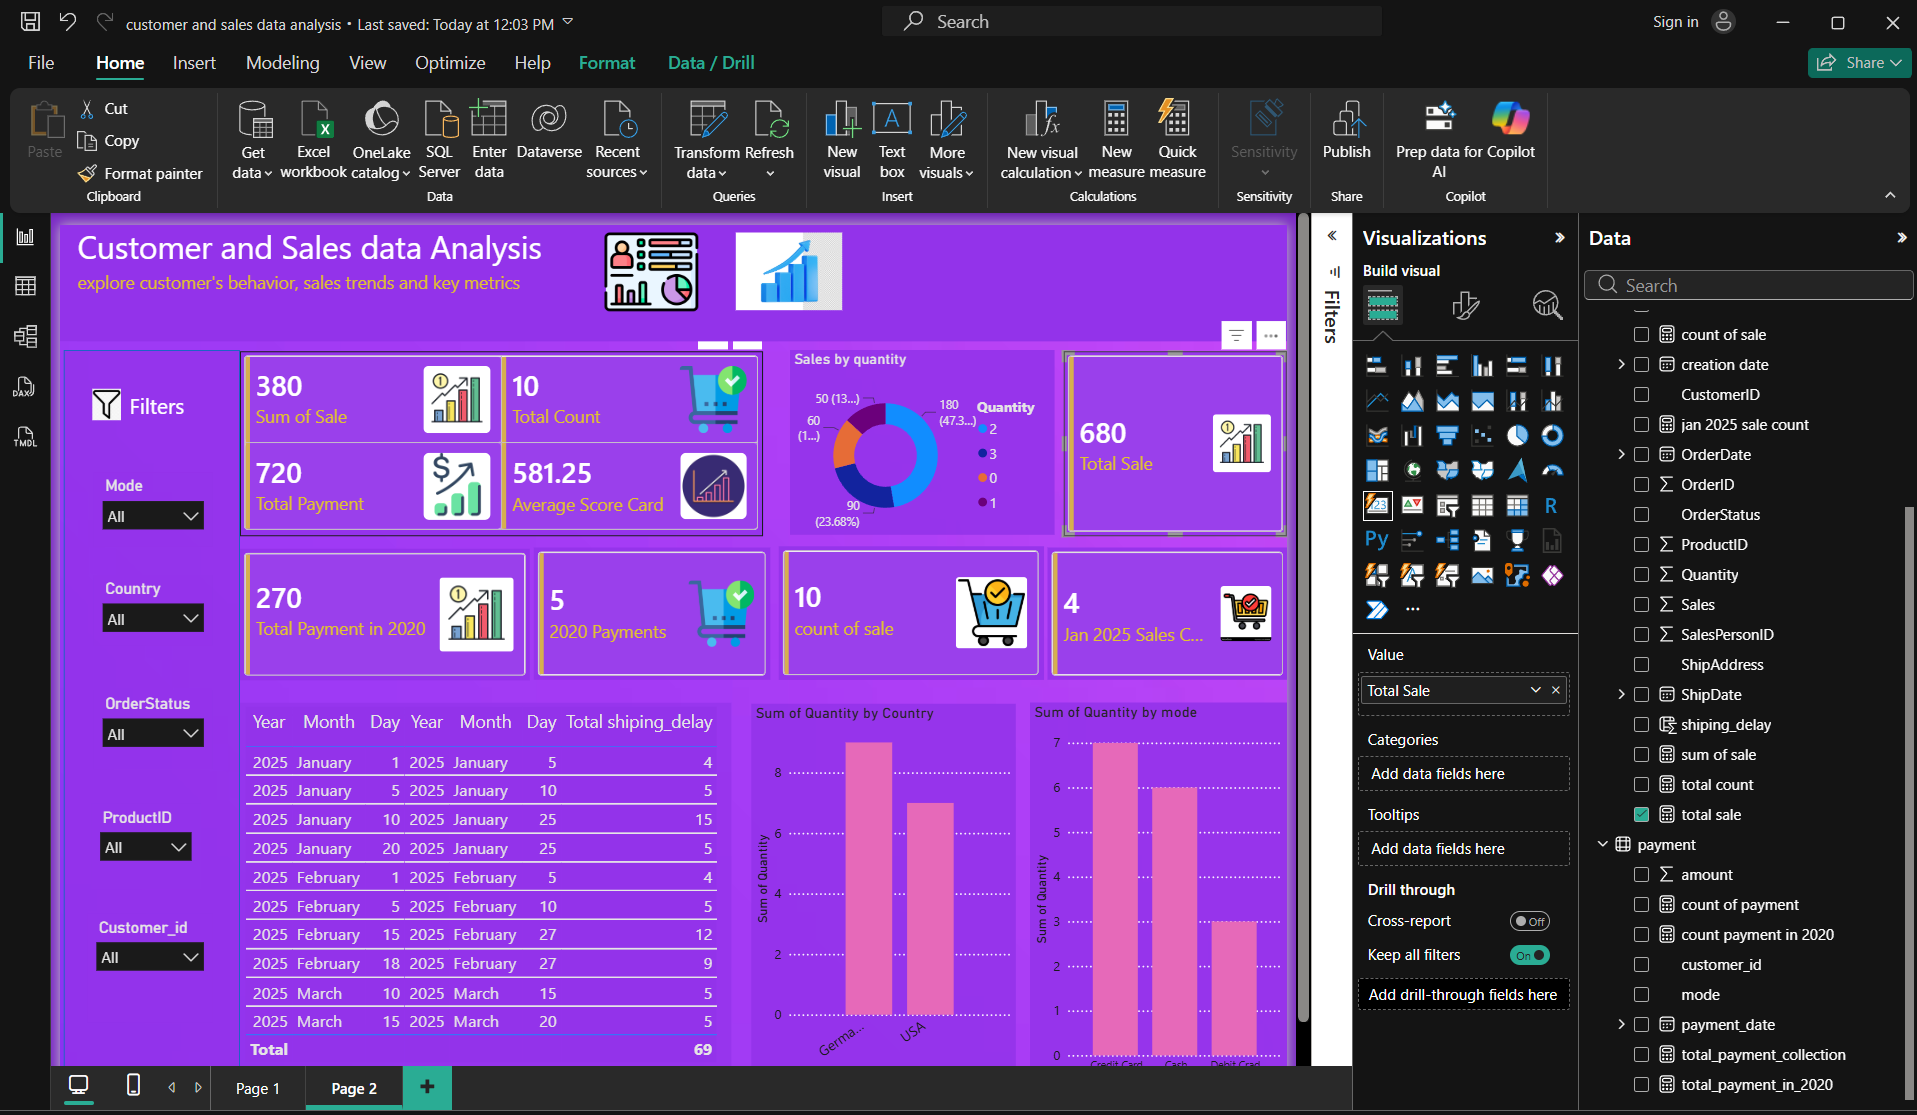

The dashboard page shown, as its layout file describes it:
{"tool":"powerbi","page":{"name":"Page 2","canvas":[1403,1015],"ordinal":1},"visuals":[{"type":"cardVisual","fields":{"Data":["Orders.Measure","Orders.distinct count","payment.total_payment_collection","Customers.Average_customer_scoreCard"]},"box":[205.7,144.3,598.6,211],"z":0},{"type":"tableEx","fields":{"Values":["Orders.OrderDate.Variation.Date Hierarchy.Year","Orders.OrderDate.Variation.Date Hierarchy.Month","Orders.OrderDate.Variation.Date Hierarchy.Day","Orders.ShipDate.Variation.Date Hierarchy.Year","Orders.ShipDate.Variation.Date Hierarchy.Month","Orders.ShipDate.Variation.Date Hierarchy.Day","Sum(Orders.shiping_delay)"]},"box":[205.7,545.7,561.4,447.1],"z":1000},{"type":"donutChart","title":"Sales by quantity ","fields":{"Category":["Orders.Quantity"],"Y":["Sum(Orders.Sales)"]},"box":[834.2,142.5,302.7,211],"z":2000},{"type":"shape","title":"Customer and Sales data Analysis","box":[0,0,1402.7,132.9],"z":3000},{"type":"lineClusteredColumnComboChart","fields":{"Category":["Customers.Country"],"Y":["Sum(Orders.Quantity)"]},"box":[790,547.1,302.7,445.2],"z":4000},{"type":"image","box":[594.5,0,163,106.8],"z":5000},{"type":"shape","box":[4.3,142.9,201.4,867.1],"z":6000},{"type":"slicer","fields":{"Values":["Customers.Country"]},"box":[38.6,400,135.6,80.8],"z":7000},{"type":"slicer","fields":{"Values":["Orders.OrderStatus"]},"box":[38.6,531.4,135.6,90.4],"z":8000},{"type":"slicer","fields":{"Values":["payment.mode"]},"box":[38.6,282.9,135.6,84.9],"z":9000},{"type":"slicer","fields":{"Values":["Orders.ProductID"]},"box":[35.7,661.4,124.7,97.3],"z":10000},{"type":"image","box":[26,187.7,54.8,35.6],"z":11000},{"type":"image","box":[757.5,8.2,152.1,89],"z":12000},{"type":"cardVisual","fields":{"Data":["Orders.total sale"]},"box":[1147.1,144.3,255.7,211.4],"z":13000},{"type":"columnChart","fields":{"Y":["Sum(Orders.Quantity)"],"Category":["payment.mode"]},"box":[1108.6,545.7,294.3,447.1],"z":14000},{"type":"cardVisual","fields":{"Data":["payment.total_payment_in_2020"]},"box":[205.7,370,331.4,150],"z":15000},{"type":"cardVisual","fields":{"Data":["Orders.count of sale"]},"box":[821.4,367.1,302.9,152.9],"z":16000},{"type":"cardVisual","fields":{"Data":["payment.count payment in 2020"]},"box":[541.4,368.6,270,151.4],"z":17000},{"type":"slicer","fields":{"Values":["payment.customer_id"]},"box":[31.4,787.1,142.9,124.3],"z":18000},{"type":"cardVisual","fields":{"Data":["Orders.jan 2025 sale count"]},"box":[1128.6,368.6,274.3,151.4],"z":19000}]}

Visuals, with their boxes on the page's 1403x1015 design canvas (x1, y1, x2, y2). These are canvas units, not pixel positions in the 1917x1115 screenshot, which may show the page scaled, cropped or inside an application window:
cardVisual - Orders.Measure x Orders.distinct count: select_region(206, 144, 804, 355)
tableEx - Orders.OrderDate.Variation.Date Hierarchy.Year x Orders.OrderDate.Variation.Date Hierarchy.Month: select_region(206, 546, 767, 993)
"Sales by quantity " donutChart: select_region(834, 142, 1137, 354)
"Customer and Sales data Analysis" shape: select_region(0, 0, 1403, 133)
lineClusteredColumnComboChart - Customers.Country x Sum(Orders.Quantity): select_region(790, 547, 1093, 992)
image: select_region(594, 0, 758, 107)
shape: select_region(4, 143, 206, 1010)
slicer - Customers.Country: select_region(39, 400, 174, 481)
slicer - Orders.OrderStatus: select_region(39, 531, 174, 622)
slicer - payment.mode: select_region(39, 283, 174, 368)
slicer - Orders.ProductID: select_region(36, 661, 160, 759)
image: select_region(26, 188, 81, 223)
image: select_region(758, 8, 910, 97)
cardVisual - Orders.total sale: select_region(1147, 144, 1403, 356)
columnChart - Sum(Orders.Quantity) x payment.mode: select_region(1109, 546, 1403, 993)
cardVisual - payment.total_payment_in_2020: select_region(206, 370, 537, 520)
cardVisual - Orders.count of sale: select_region(821, 367, 1124, 520)
cardVisual - payment.count payment in 2020: select_region(541, 369, 811, 520)
slicer - payment.customer_id: select_region(31, 787, 174, 911)
cardVisual - Orders.jan 2025 sale count: select_region(1129, 369, 1403, 520)
